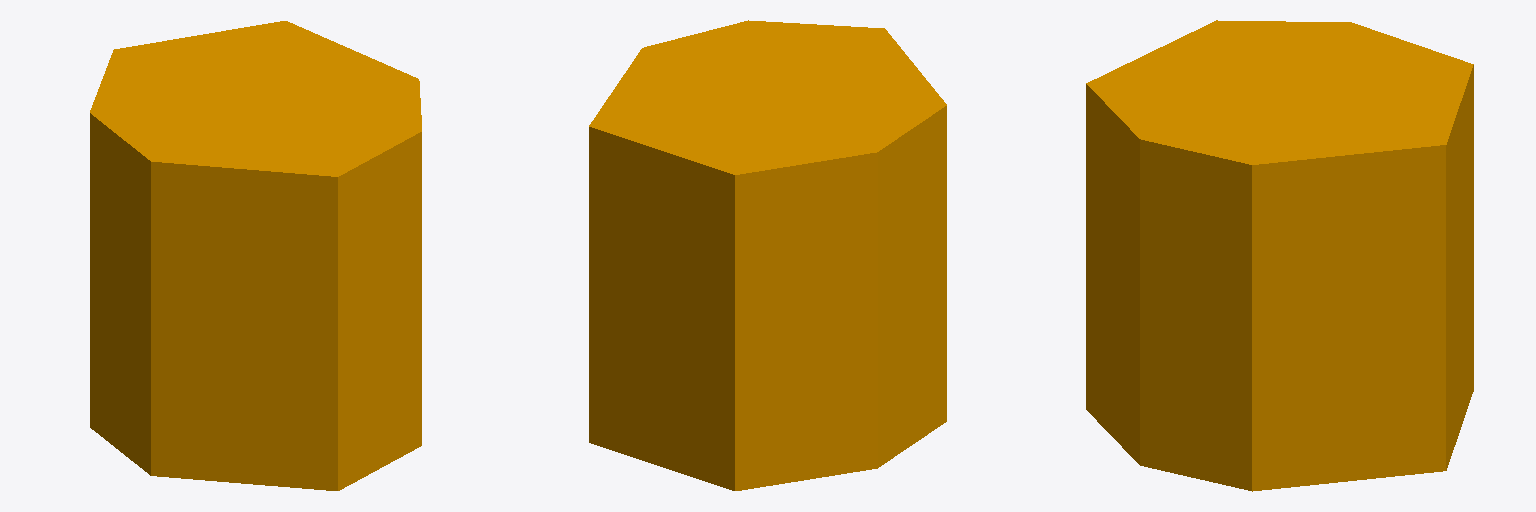
The robot description file, URDF, robot "object":
<?xml version="1.0"?>
<robot name="object">
  <link name="object">
    <visual>
      <origin xyz="0 0 0"/>
      <geometry>
        <mesh filename="meshes/generated/col_010.obj" scale="0.03 0.03 0.03"/>
      </geometry>
    </visual>
    <collision>
      <origin xyz="0 0 0"/>
      <geometry>
        <mesh filename="meshes/generated/col_010.obj" scale="0.03 0.03 0.03"/>
      </geometry>
    </collision>
    <inertial>
      <density value="1000.0"/>
    </inertial>
  </link>
</robot>

--- What the picture shows (computed from the rendered views, not written in the file) ---
The picture shows the robot from 3 angles, left to right: view 1: azimuth 30°, elevation 25°; view 2: azimuth 150°, elevation 25°; view 3: azimuth 270°, elevation 25°; orthographic projection.
Robot: object — 1 links, 0 joints (none); root link object; default pose: every joint at zero.
Visible links, largest first — view 1: object; view 2: object; view 3: object.
Boxes of the visible links, x1,y1,x2,y2 form: object: (90, 21, 421, 490); object: (589, 20, 946, 490); object: (1086, 20, 1473, 491).
Bounding box of the posed robot: 0.0571 × 0.0646 × 0.06 m (x, y, z).
Meshes: 1 distinct files referenced, 1 mesh visuals loaded (1 OBJ).
